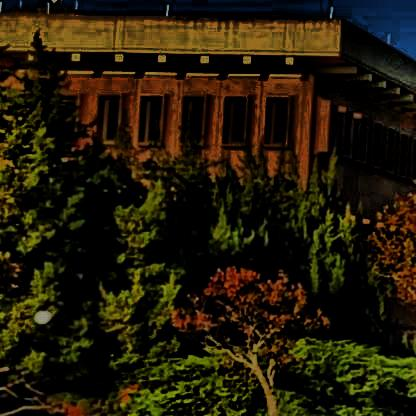golfball: (32, 306, 49, 321)
